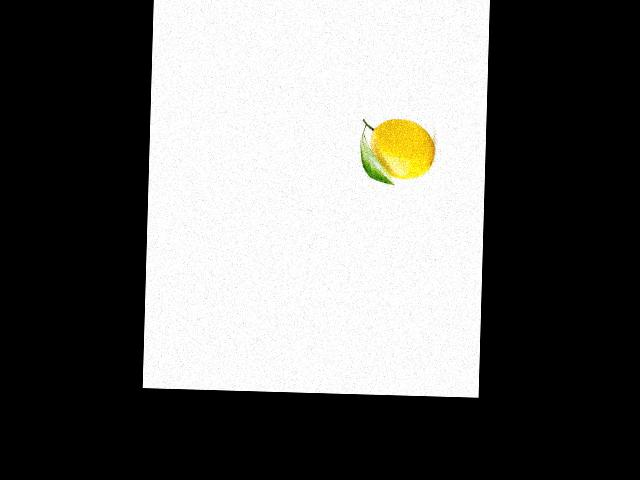lemon: (363, 114, 440, 183)
